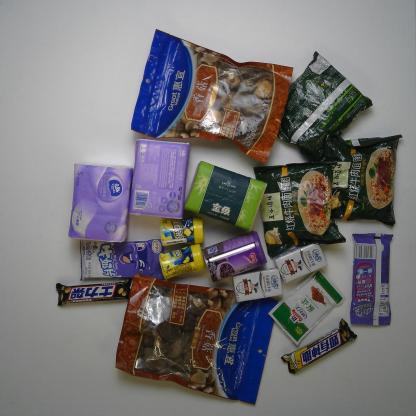Candy: (349, 233, 394, 328), (79, 237, 168, 281)
Canned Food: (200, 230, 268, 283)
Chocolate: (281, 318, 358, 375), (56, 276, 133, 307)
Dried Food: (129, 29, 294, 164), (114, 273, 279, 405)
Gum: (159, 242, 207, 280), (159, 216, 204, 248)
Instant Noodles: (274, 50, 373, 164), (254, 160, 348, 260), (320, 129, 403, 227)
Milk: (272, 242, 328, 284), (233, 267, 284, 303)
Seasoner: (268, 268, 347, 347)
Tissue: (183, 159, 268, 233), (67, 162, 134, 244), (129, 138, 192, 221)
